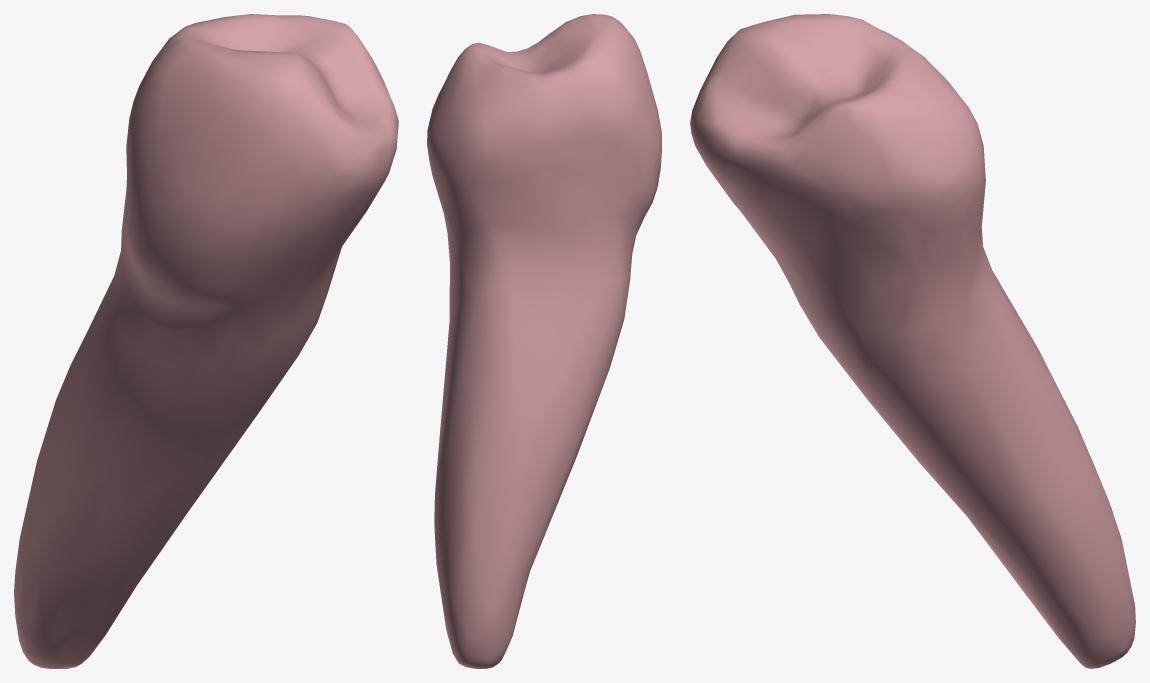
The model's file is fma55695_mm819m.glb.
3 renders of one model, left to right at view 1: azimuth 30°, elevation 25°; view 2: azimuth 150°, elevation 25°; view 3: azimuth 270°, elevation 25°, orthographic. The views are drawn at different scales.
Parts seen in each view (by area): view 1: FMA55695_MM819M; view 2: FMA55695_MM819M; view 3: FMA55695_MM819M.
Part boxes in pixels (bbox=[...]): FMA55695_MM819M: bbox=[14, 14, 398, 668]; FMA55695_MM819M: bbox=[427, 14, 661, 668]; FMA55695_MM819M: bbox=[690, 14, 1135, 668].
Size of the model in its own units: 0.00747 by 0.0206 by 0.0128.
